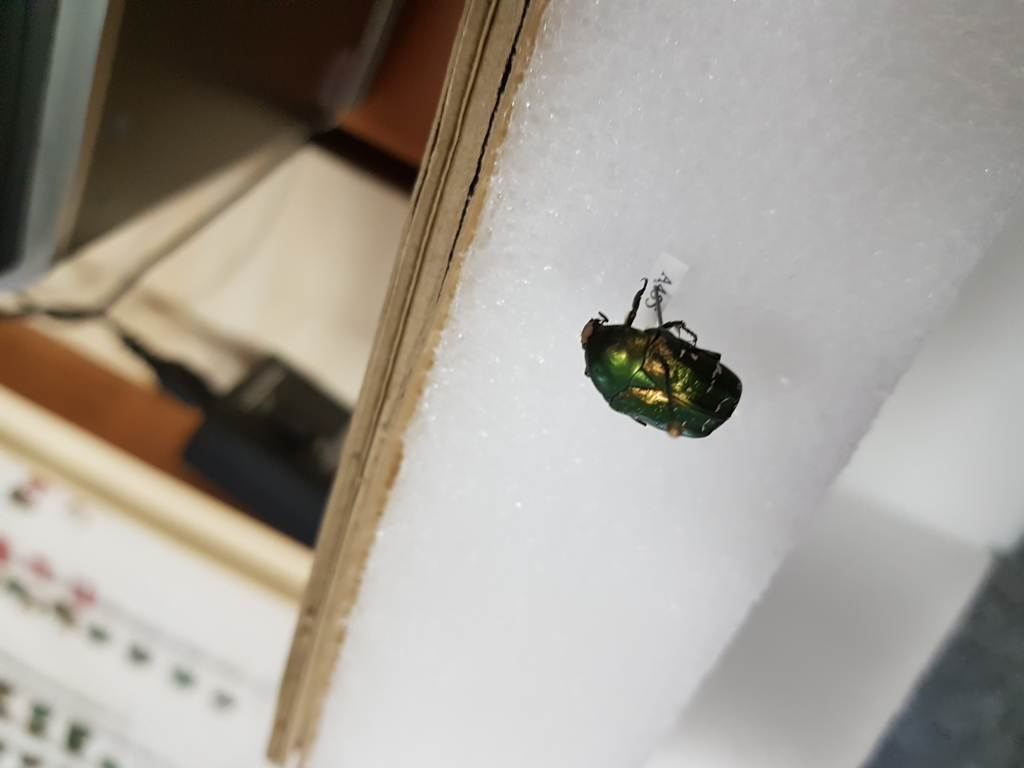Cetonia_kemali: (562, 266, 731, 445)
